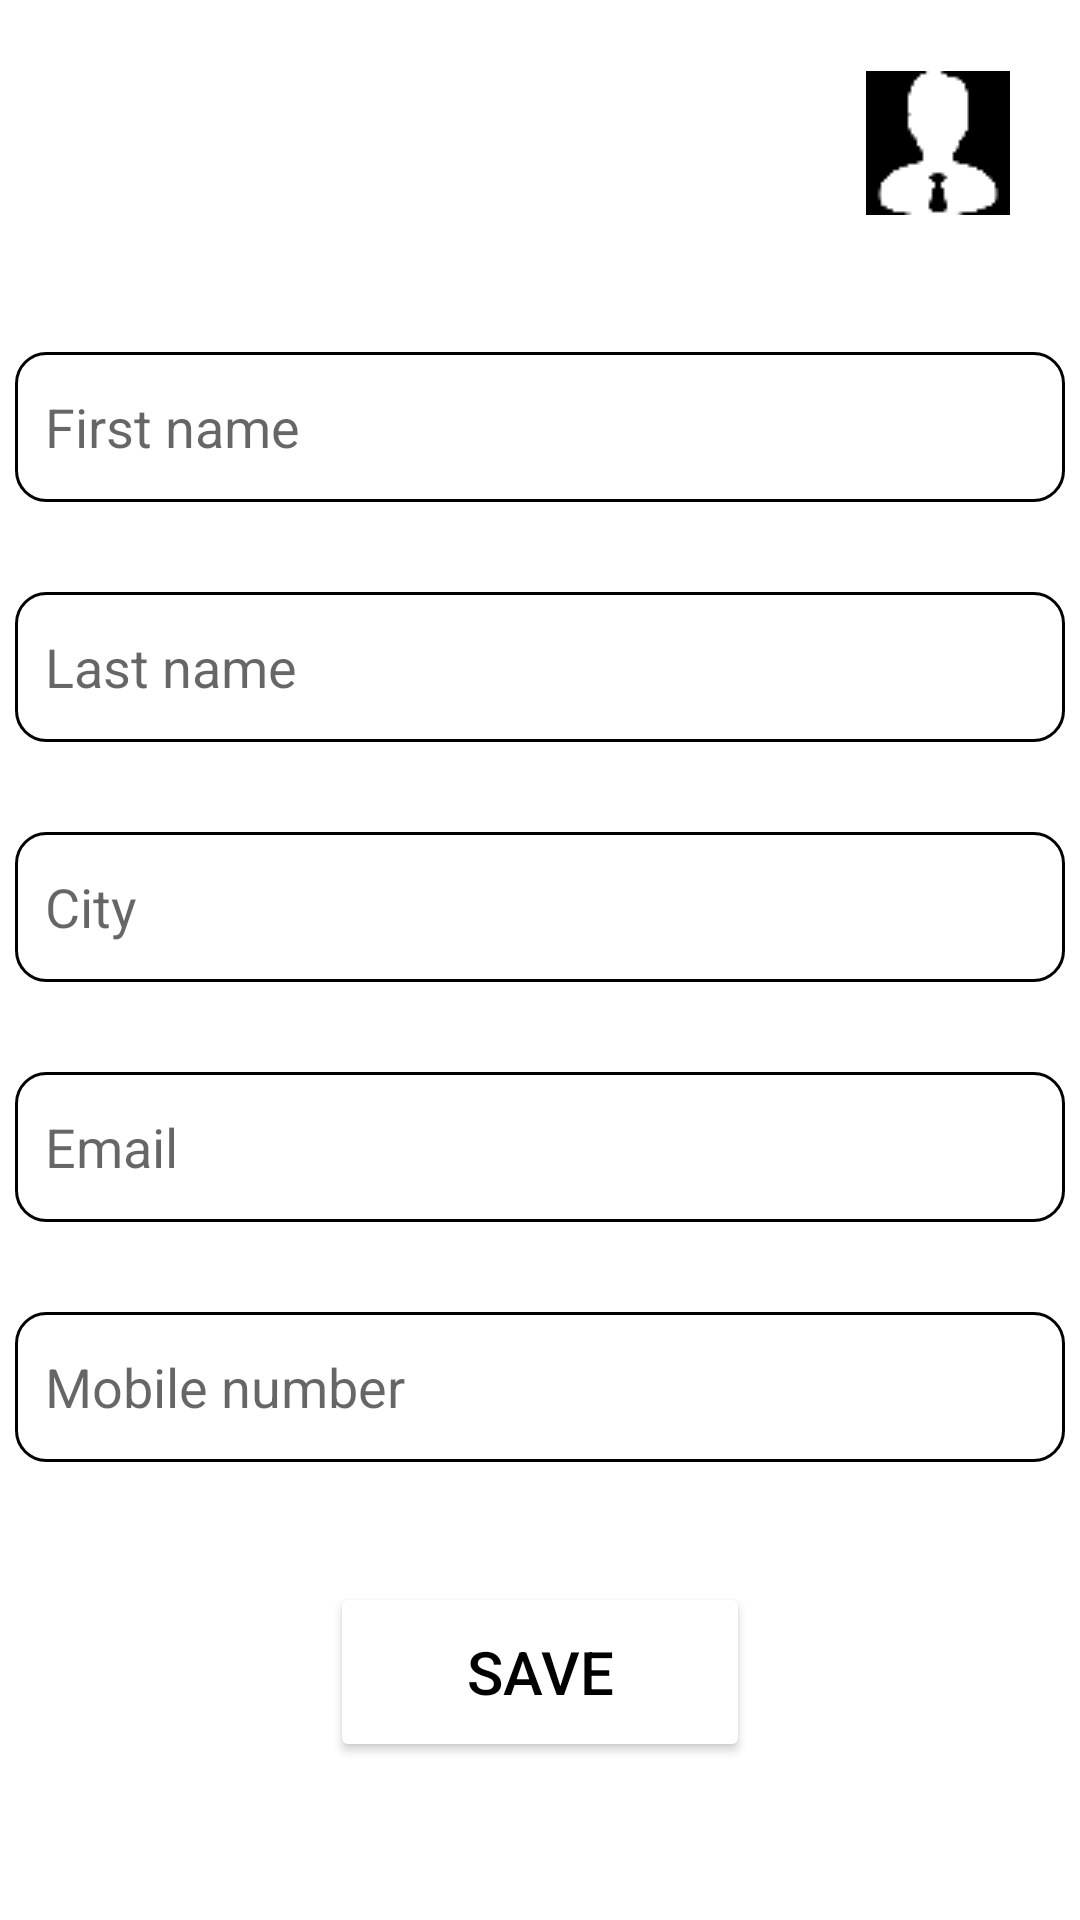

Named icons in this screenshot (1080x1920) and their centers, (x,y):
admin: (938,143)
